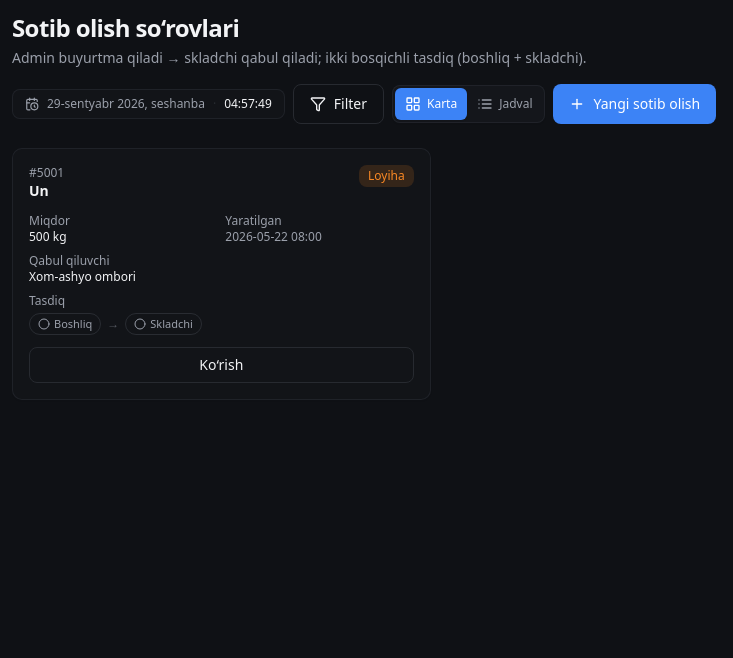
Test case: RBAC matrix — raw_warehouse_manager › hides the keeper-step approve for a foreign warehouse
Expected: the text "Un" is shown, [29,181,49,200]
Click the button "Ko‘rish".
click(221, 365)  # box [29,347,414,383]
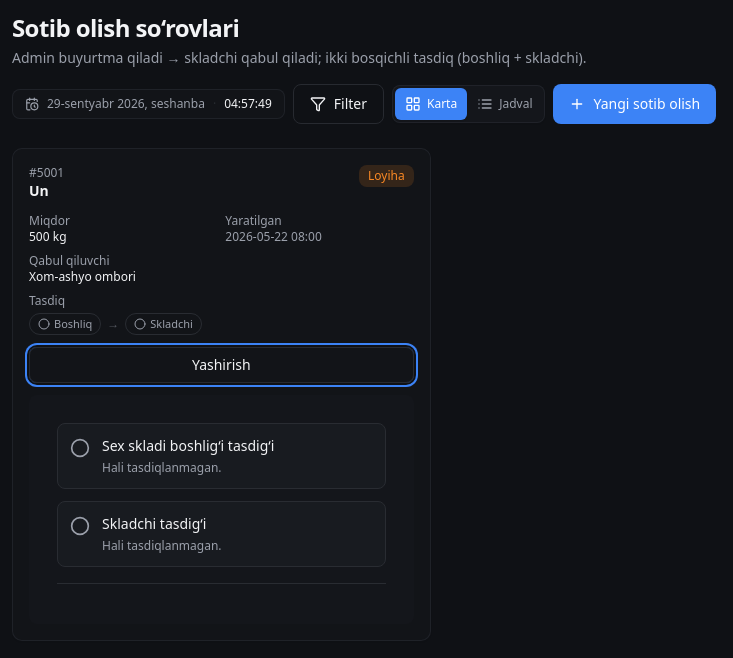
Now the text "Hali tasdiqlanmagan." below "Sex skladi boshlig‘i tasdig‘i" is shown, box [102,459,222,476]
